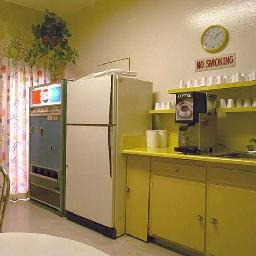Electrodomestico: (66, 82, 121, 237), (31, 88, 62, 213)
